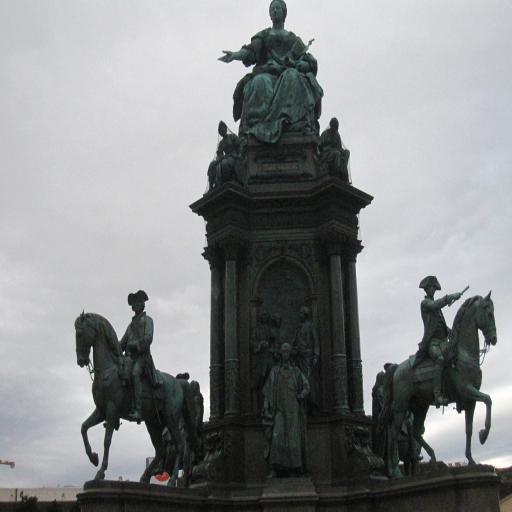horse: (376, 285, 498, 481), (72, 305, 202, 487)
